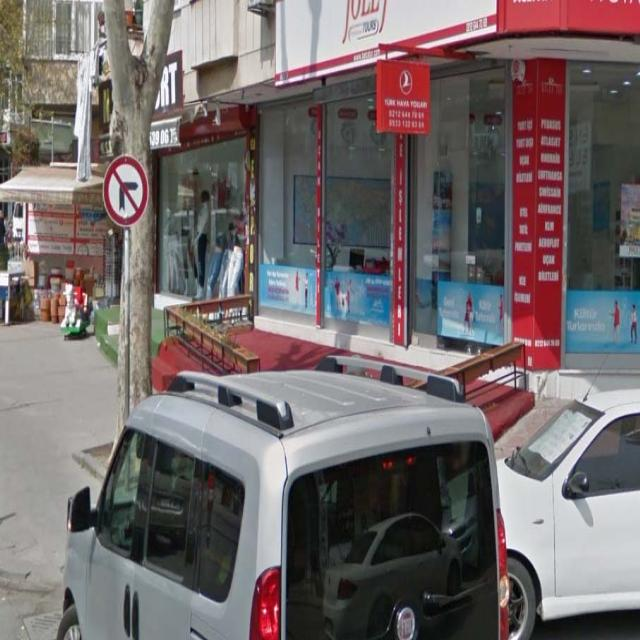sagadonulmez: (102, 156, 148, 227)
